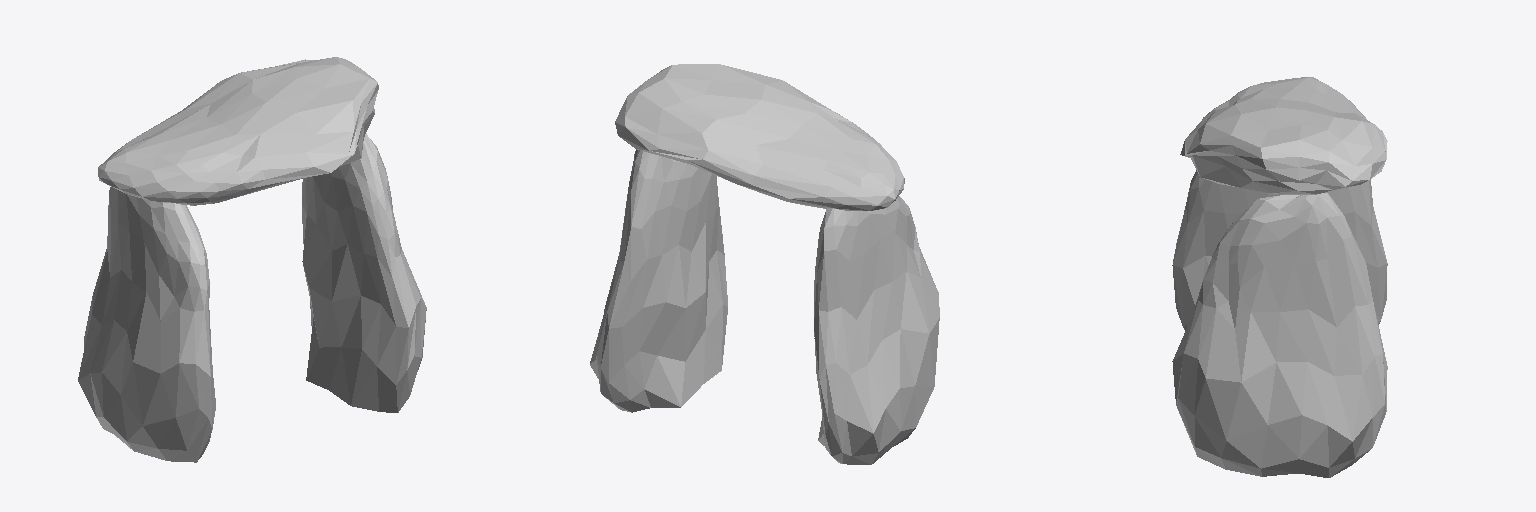
Rendered from rock_arch.obj.
3 renders of one model, left to right at view 1: azimuth 30°, elevation 25°; view 2: azimuth 150°, elevation 25°; view 3: azimuth 270°, elevation 25°, orthographic.
Parts seen in each view (by area): view 1: Icosphere, Icosphere.002, Icosphere.001; view 2: Icosphere, Icosphere.001, Icosphere.002; view 3: Icosphere.001, Icosphere.002, Icosphere.
Part boxes in pixels (left/top/right/bottom): Icosphere: left=78, top=187, right=215, bottom=462; Icosphere.002: left=98, top=57, right=378, bottom=205; Icosphere.001: left=302, top=133, right=426, bottom=412; Icosphere: left=814, top=196, right=939, bottom=464; Icosphere.001: left=590, top=149, right=727, bottom=412; Icosphere.002: left=615, top=64, right=904, bottom=210; Icosphere.001: left=1172, top=193, right=1387, bottom=477; Icosphere.002: left=1180, top=77, right=1387, bottom=194; Icosphere: left=1172, top=170, right=1387, bottom=330.
Bounding box in the file's own units: 3.54 × 3.83 × 2.31.